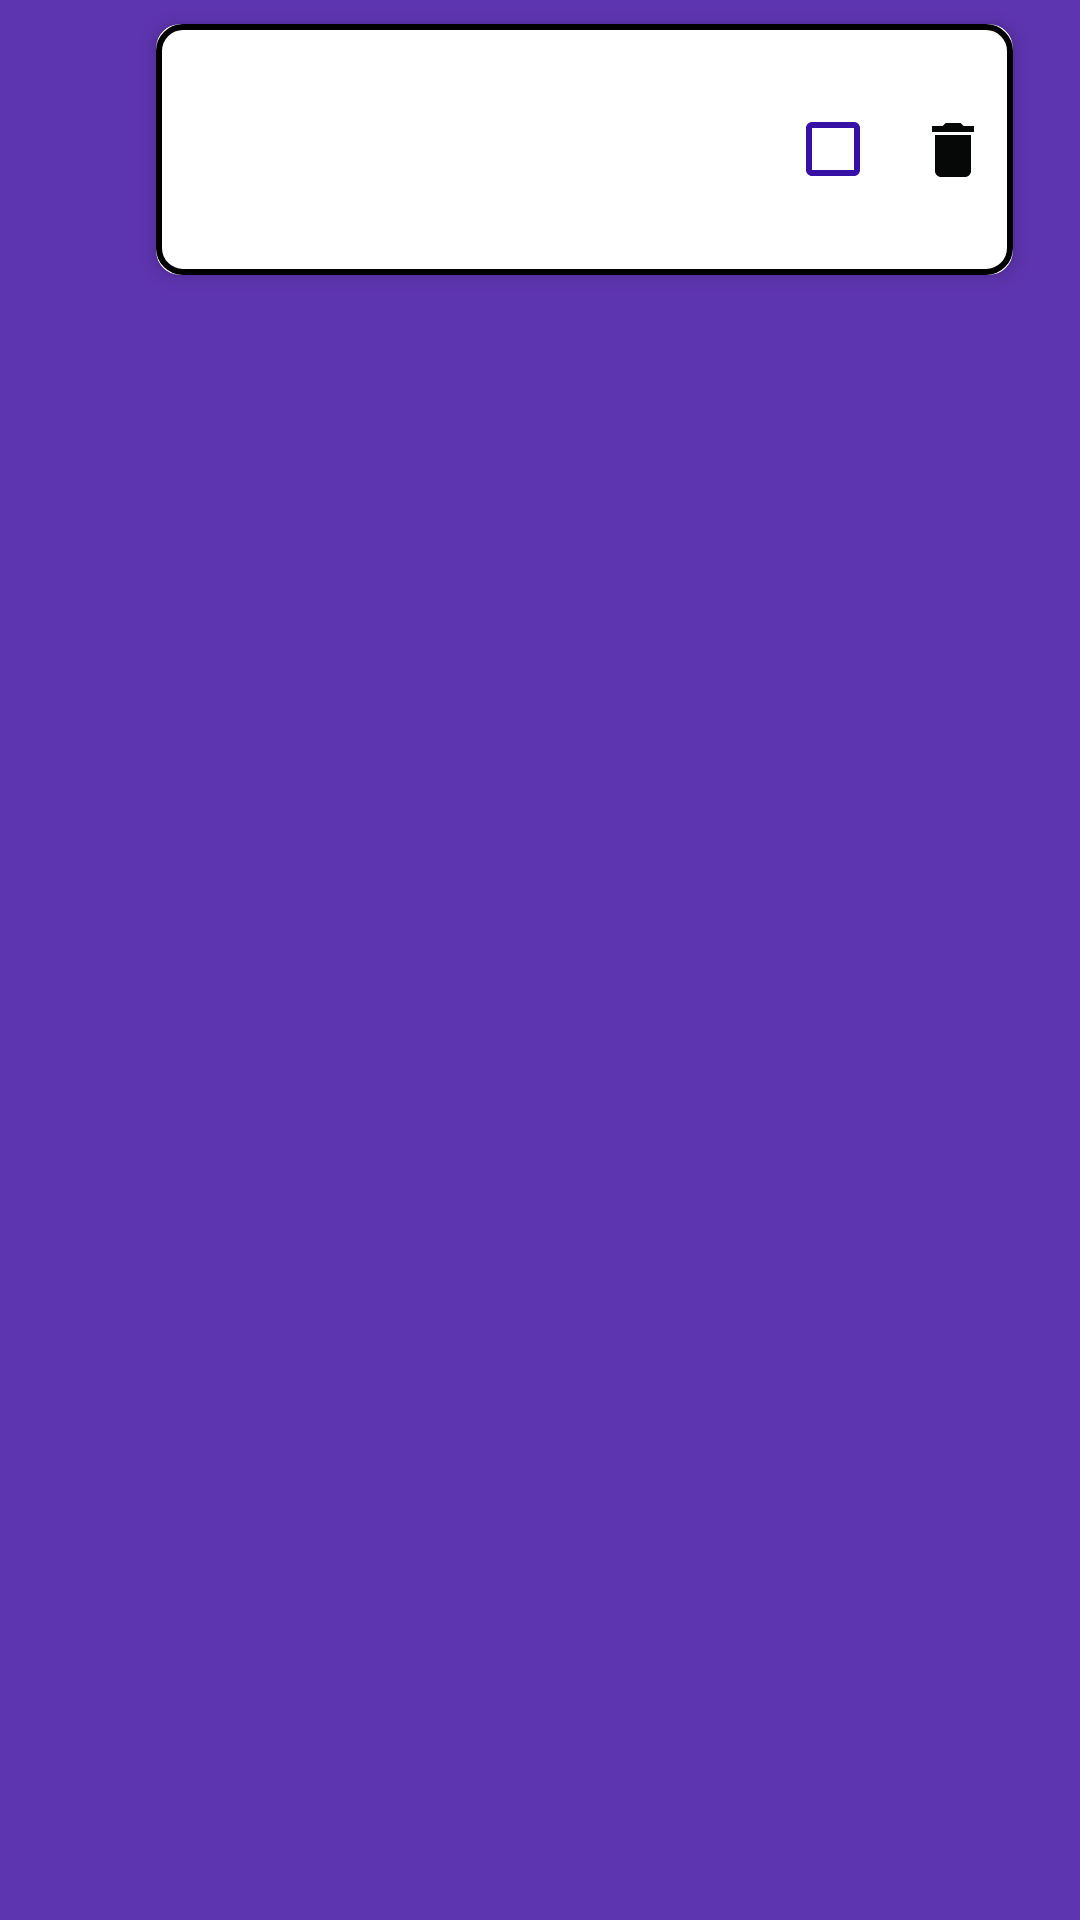

Screen size 1080x1920. Icon name, then its box in pixels as BBox(x1, y1, x2, y2):
check: BBox(806, 122, 860, 176)
delete: BBox(932, 123, 974, 177)
